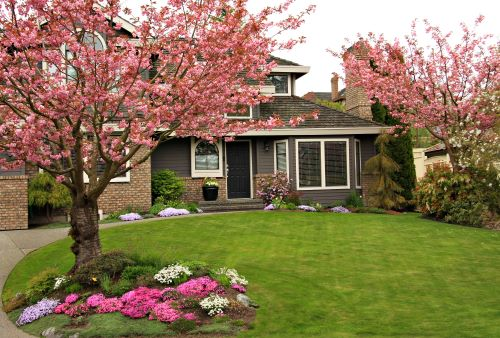grass: (246, 210, 497, 333), (104, 213, 244, 271)
tree: (68, 188, 101, 272)
